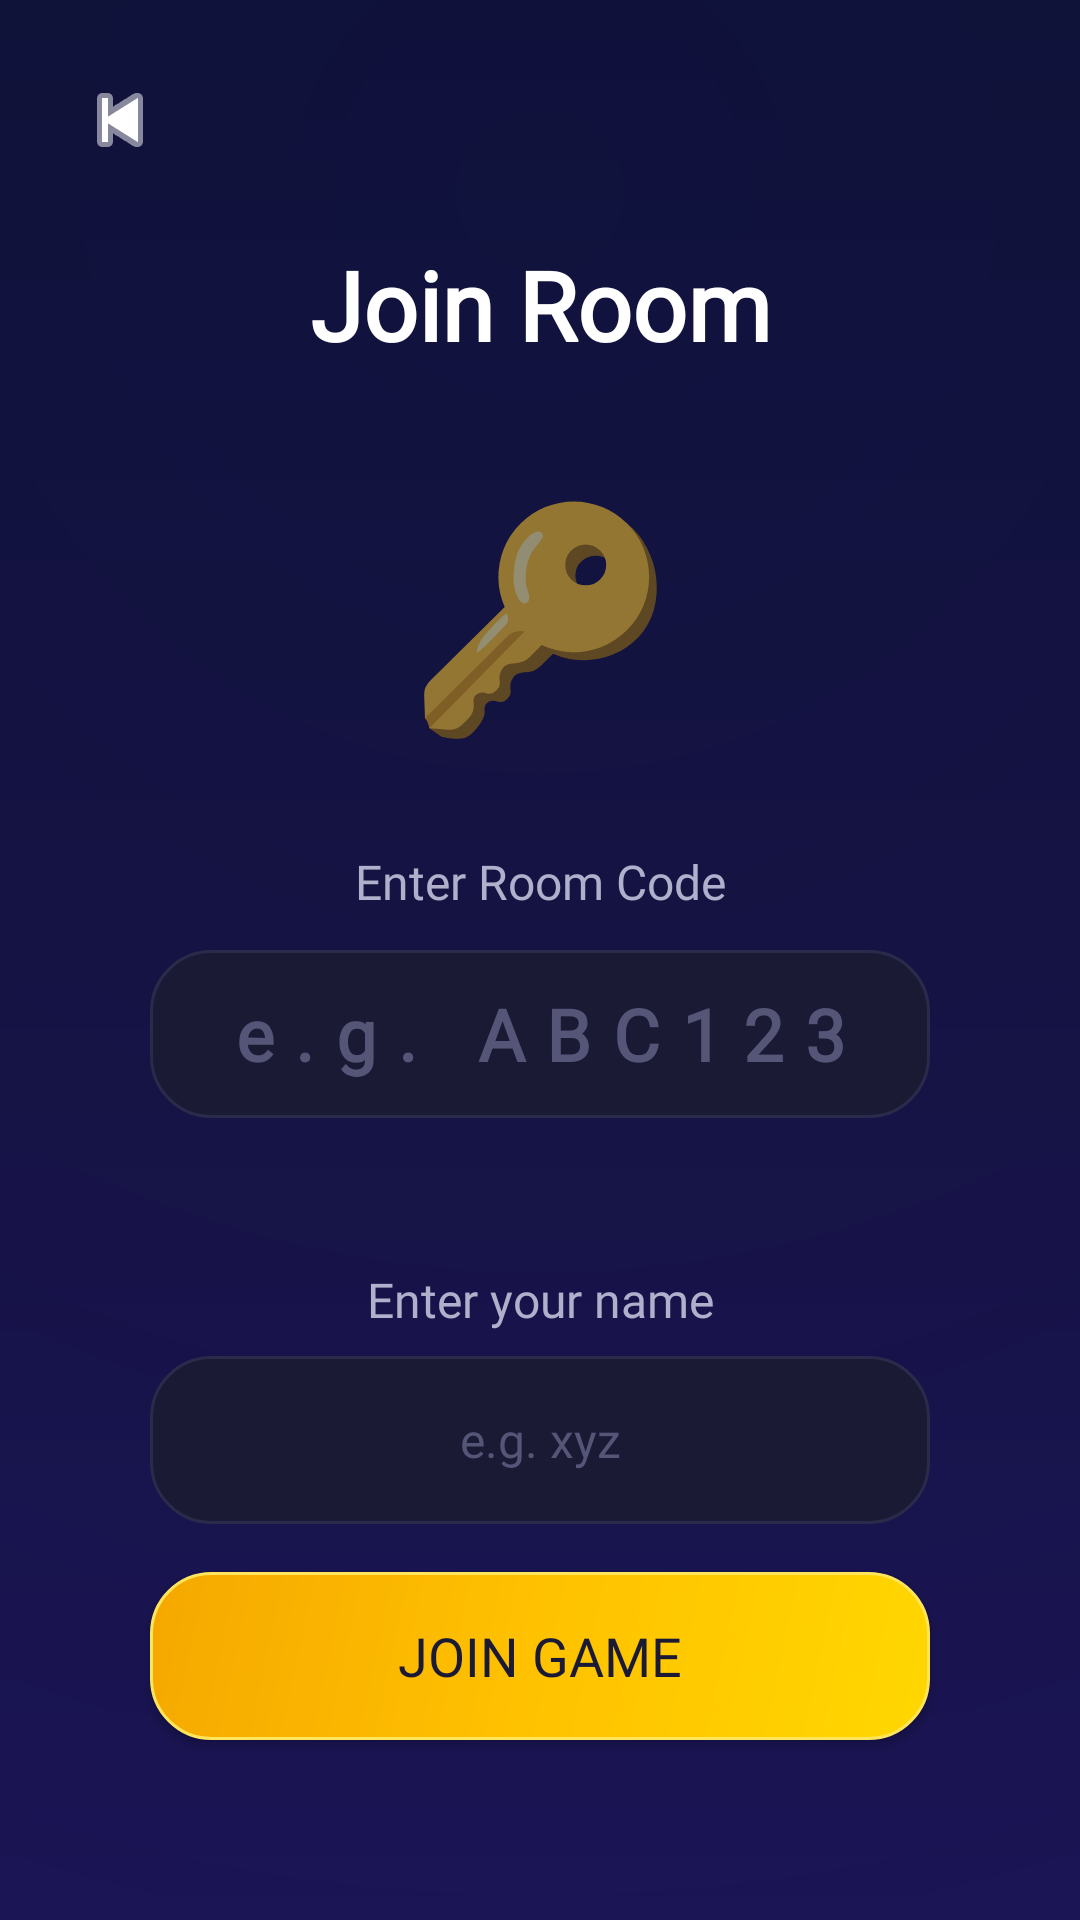

Icons on this 1080x1920 Android screen, each with its box as (x1, y1, x2, y2):
previous: (97, 93, 143, 147)
